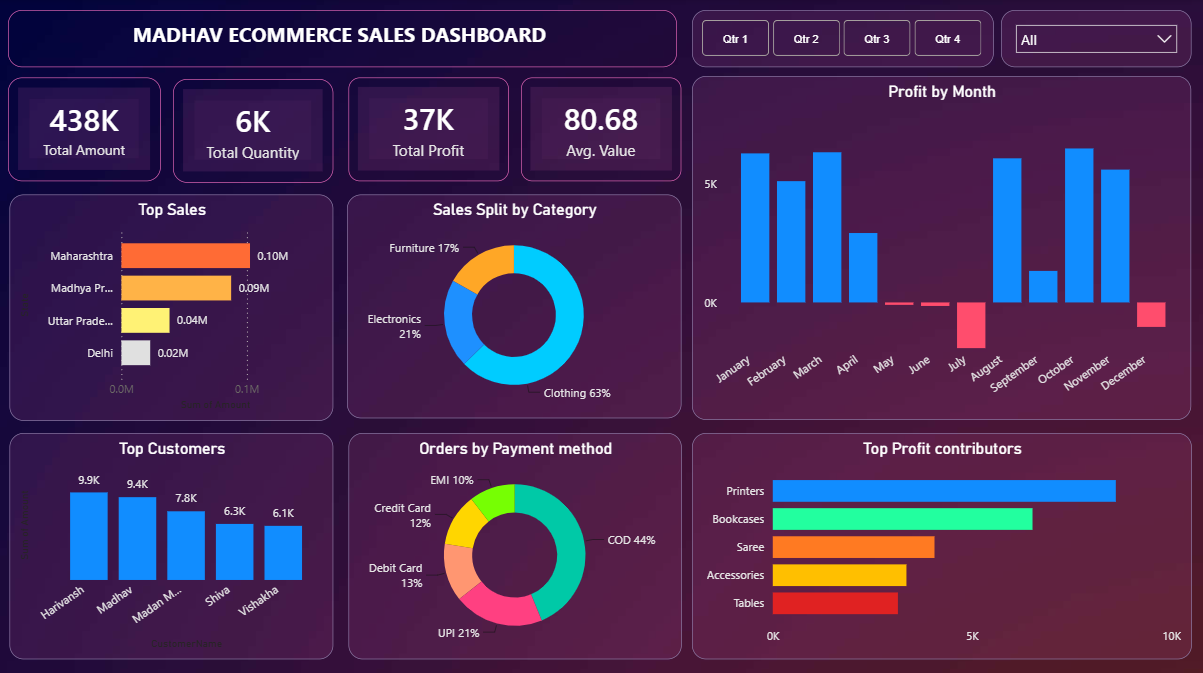

What the dashboard file says about the page in this screenshot:
{"tool":"powerbi","page":{"name":"Page 1","canvas":[1280,720],"ordinal":0},"visuals":[{"type":"textbox","box":[9.5,12.7,709.4,60.4],"z":0},{"type":"clusteredColumnChart","title":"Profit by Month","fields":{"Category":["Orders.Order Date.Variation.Date Hierarchy.Month"],"Y":["Sum(Details.Profit)"]},"box":[735.1,83.2,529.1,364.7],"z":1000},{"type":"barChart","title":"Top Profit contributors","fields":{"Category":["Details.Sub-Category"],"Y":["Sum(Details.Profit)"]},"box":[734.9,461.3,529.7,240.2],"z":2000},{"type":"donutChart","title":"Sales Split by Category","fields":{"Category":["Details.Category"],"Y":["Sum(Details.Quantity)"]},"box":[369,208.4,354.7,237],"z":3000},{"type":"donutChart","title":"Orders by Payment method","fields":{"Y":["Sum(Details.Quantity)"],"Category":["Details.PaymentMode"]},"box":[370.6,461.3,353.1,240.2],"z":4000},{"type":"cardVisual","fields":{"Data":["Sum(Details.Amount)"]},"box":[9.5,84.3,162.2,109.8],"z":5000},{"type":"cardVisual","fields":{"Data":["Sum(Details.Quantity)"]},"box":[184.5,85.9,170.2,109.8],"z":6000},{"type":"cardVisual","fields":{"Data":["Sum(Details.Profit)"]},"box":[370.6,84.3,170.2,109.8],"z":7000},{"type":"cardVisual","fields":{"Data":["Avg(Details.AOV)"]},"box":[553.5,84.3,170.2,109.8],"z":8000},{"type":"barChart","title":"Top Sales","fields":{"Category":["Orders.State"],"Y":["Sum(Details.Amount)"]},"box":[11.1,208.4,343.6,240.2],"z":9000},{"type":"clusteredColumnChart","title":"Top Customers","fields":{"Category":["Orders.CustomerName"],"Y":["Sum(Details.Amount)"]},"box":[11.1,461.3,343.6,240.2],"z":10000},{"type":"advancedSlicerVisual","fields":{"Values":["Orders.Order Date.Variation.Date Hierarchy.Quarter"]},"box":[734.9,12.7,319.7,60.4],"z":11000},{"type":"slicer","title":"dfghjk","fields":{"Values":["Orders.State"]},"box":[1062.5,12.7,202,60.4],"z":12000}]}

Visuals, with their boxes in screenshot pixels (x1, y1, x2, y2), scaled from the page's 1280x720 canvas onto the 1203x673 screenshot:
textbox: bbox=(9, 12, 676, 68)
"Profit by Month" clusteredColumnChart: bbox=(691, 78, 1188, 419)
"Top Profit contributors" barChart: bbox=(691, 431, 1189, 656)
"Sales Split by Category" donutChart: bbox=(347, 195, 680, 416)
"Orders by Payment method" donutChart: bbox=(348, 431, 680, 656)
cardVisual - Sum(Details.Amount): bbox=(9, 79, 161, 181)
cardVisual - Sum(Details.Quantity): bbox=(173, 80, 333, 183)
cardVisual - Sum(Details.Profit): bbox=(348, 79, 508, 181)
cardVisual - Avg(Details.AOV): bbox=(520, 79, 680, 181)
"Top Sales" barChart: bbox=(10, 195, 333, 419)
"Top Customers" clusteredColumnChart: bbox=(10, 431, 333, 656)
advancedSlicerVisual - Orders.Order Date.Variation.Date Hierarchy.Quarter: bbox=(691, 12, 991, 68)
"dfghjk" slicer: bbox=(999, 12, 1188, 68)
